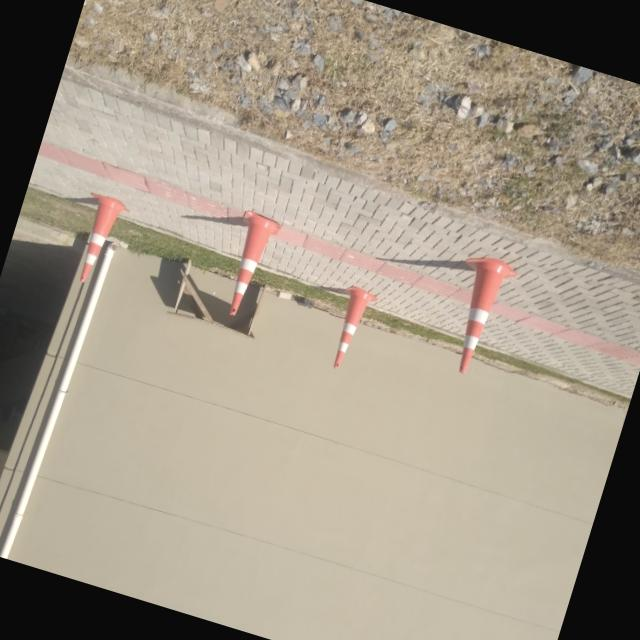cone: (431, 246, 523, 384), (208, 205, 286, 328), (61, 187, 132, 290), (318, 279, 380, 377)
